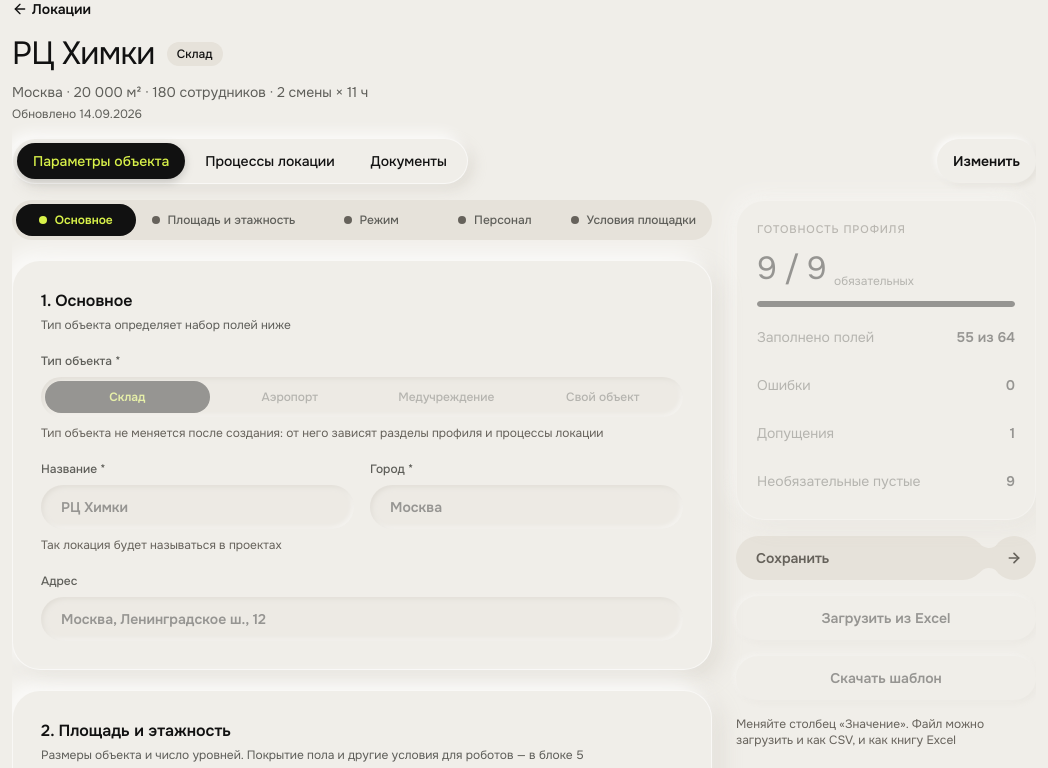
Test case: LocationParamsPage (экран 17а) › blocks saving with errors and moves focus to the first field
Click the button with aria-label "Изменить параметры объекта" at (987, 161), box [937,139,1036,183]
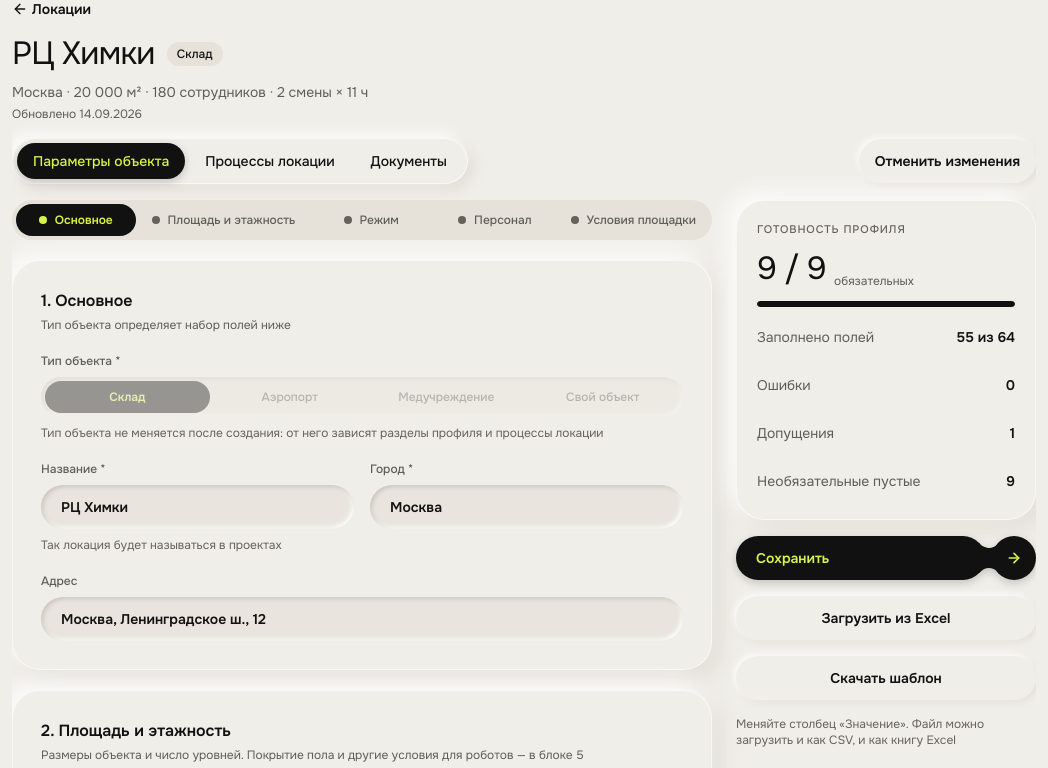
Clear the field labelled "Название *" at (198, 507), box [61,497,334,517]
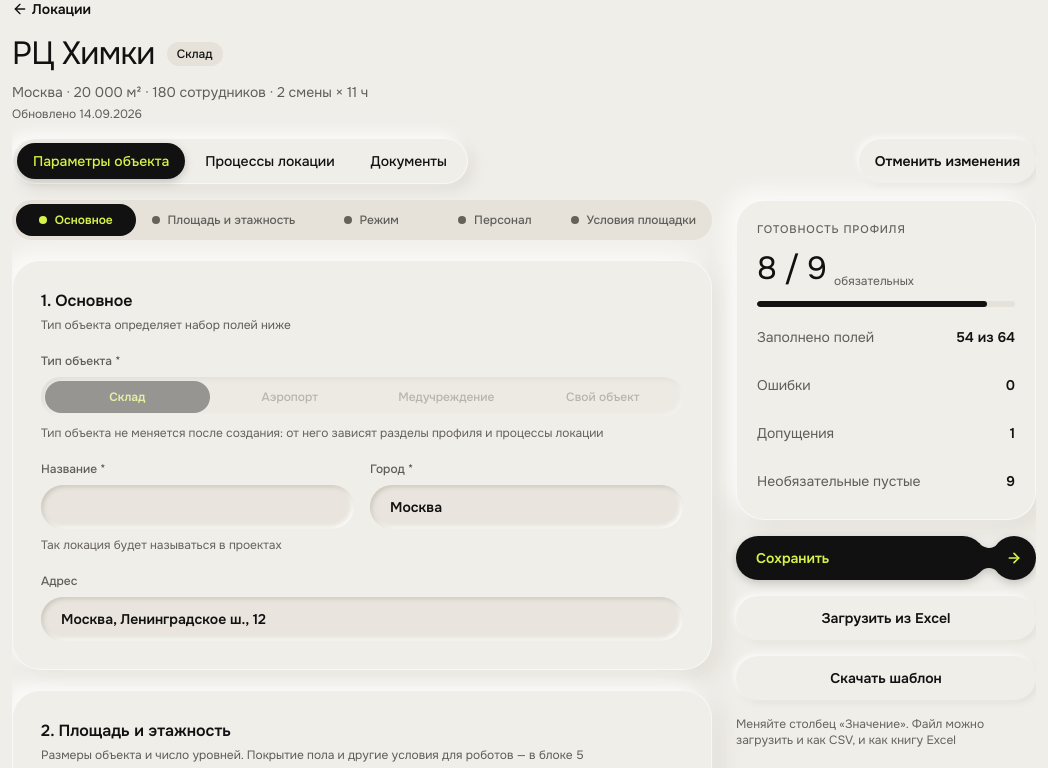
Click the button "Сохранить" at (886, 558), box [736,536,1036,580]
(page scrolled)
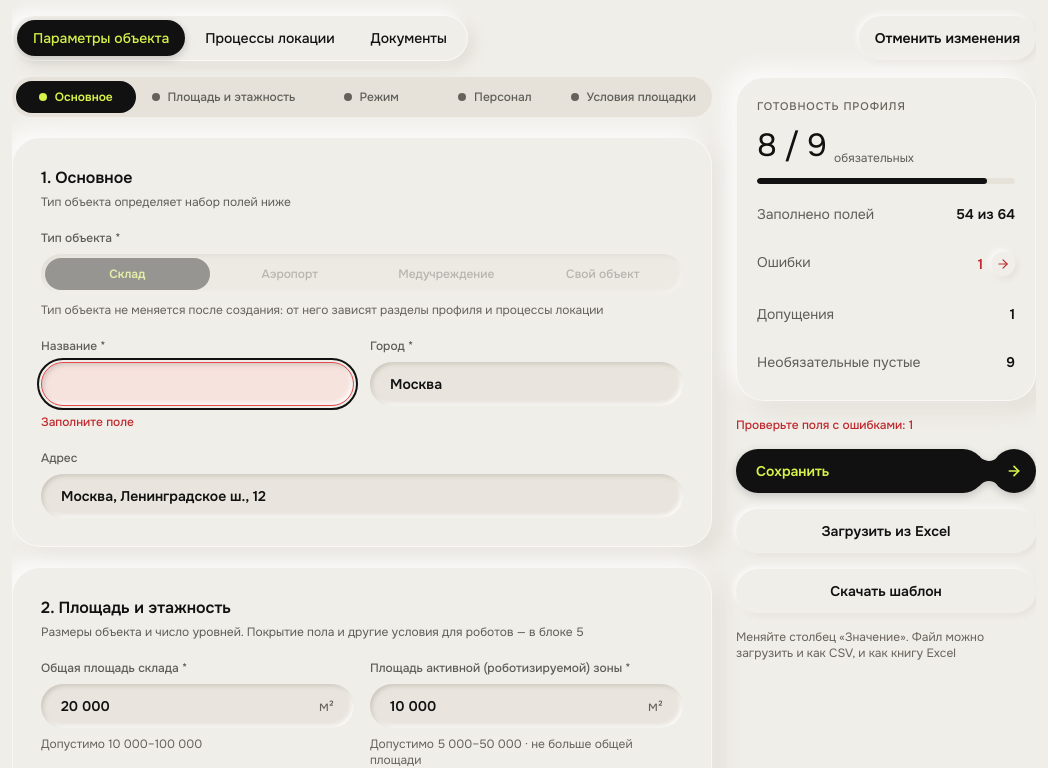
expect the text "Проверьте поля с ошибками: 1" is shown: met, box [736,417,913,433]
